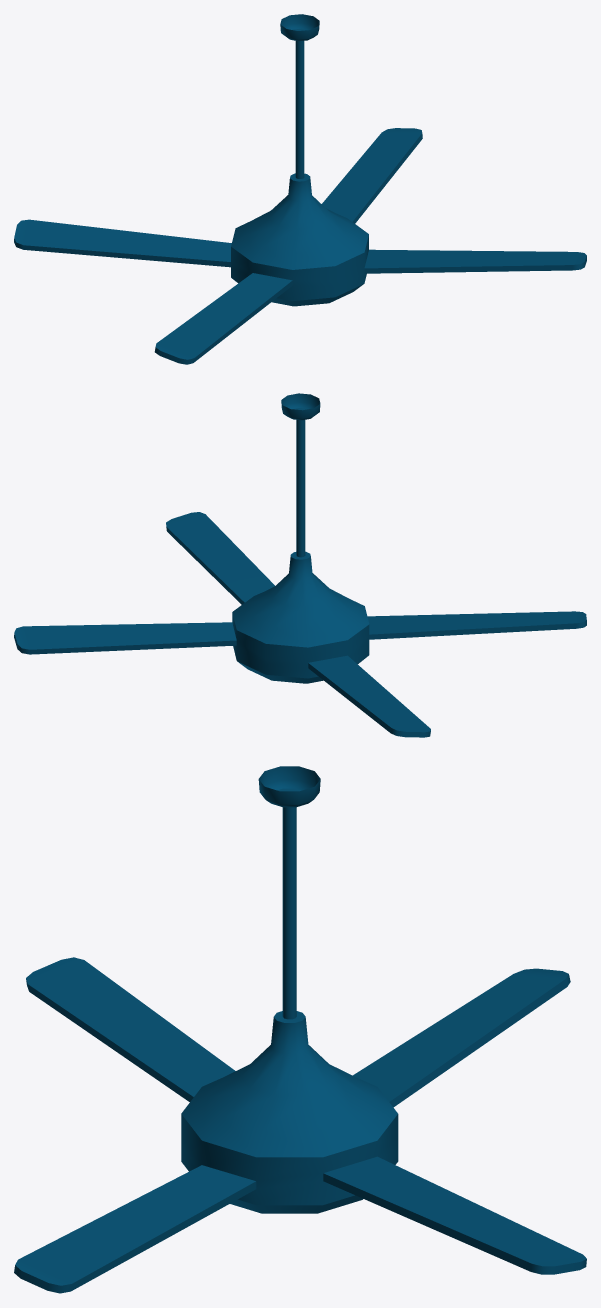
File: Ventilador.fbx
3 views of the same model, one above another, from view 1: azimuth 30°, elevation 25°; view 2: azimuth 150°, elevation 25°; view 3: azimuth 270°, elevation 25° (orthographic). The views are drawn at different scales.
Visible parts, largest first — view 1: Ventilador; view 2: Ventilador; view 3: Ventilador.
Part boxes in pixels (<box>): Ventilador: <box>14,14,586,364</box>; Ventilador: <box>14,393,586,737</box>; Ventilador: <box>14,766,586,1293</box>.
Size of the model in its own units: 1.29 by 0.7542 by 0.9825.
